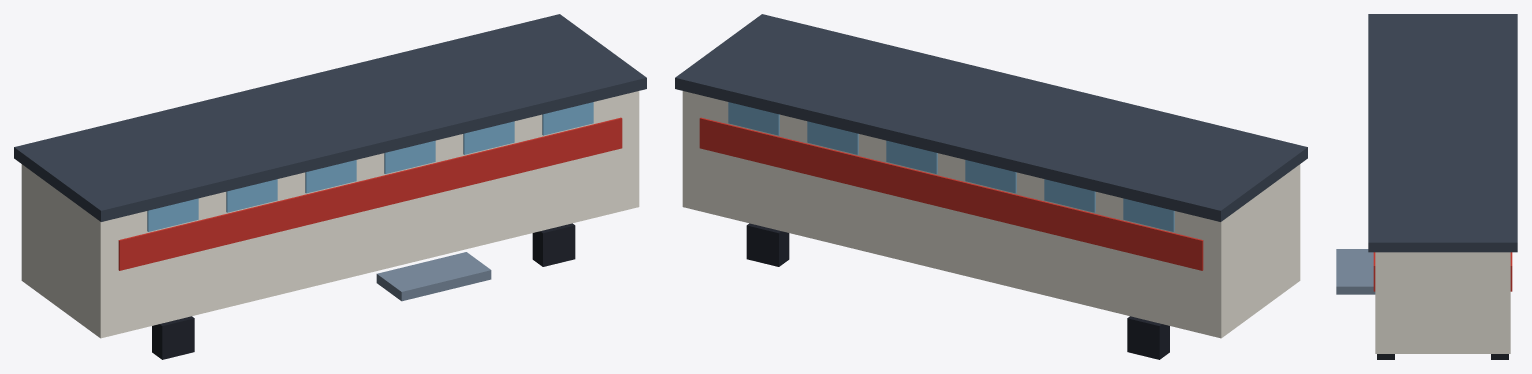
File: motorhome.glb
3 renders of one model, left to right at view 1: azimuth 30°, elevation 25°; view 2: azimuth 150°, elevation 25°; view 3: azimuth 270°, elevation 25°, orthographic. The views are drawn at different scales.
Parts seen in each view (by area): view 1: motorhome_steelDark, motorhome_white, motorhome_red, motorhome_glass, motorhome_steel, motorhome_black; view 2: motorhome_steelDark, motorhome_white, motorhome_red, motorhome_glass, motorhome_black; view 3: motorhome_steelDark, motorhome_white, motorhome_steel, motorhome_red, motorhome_black.
Part boxes in pixels (box(x1,y1,x2,y2)): motorhome_steelDark: box(14, 14, 646, 221); motorhome_white: box(21, 91, 639, 338); motorhome_red: box(118, 117, 622, 270); motorhome_glass: box(147, 102, 593, 231); motorhome_steel: box(376, 252, 491, 301); motorhome_black: box(152, 223, 575, 359); motorhome_steelDark: box(675, 14, 1307, 221); motorhome_white: box(682, 91, 1300, 338); motorhome_red: box(699, 117, 1203, 270); motorhome_glass: box(728, 102, 1174, 231); motorhome_black: box(746, 223, 1169, 359); motorhome_steelDark: box(1368, 14, 1517, 252); motorhome_white: box(1375, 252, 1510, 353); motorhome_steel: box(1336, 249, 1375, 294); motorhome_red: box(1373, 252, 1512, 291); motorhome_black: box(1377, 354, 1508, 359).
Size of the model in its own units: 15.2 by 4.5 by 5.1.
